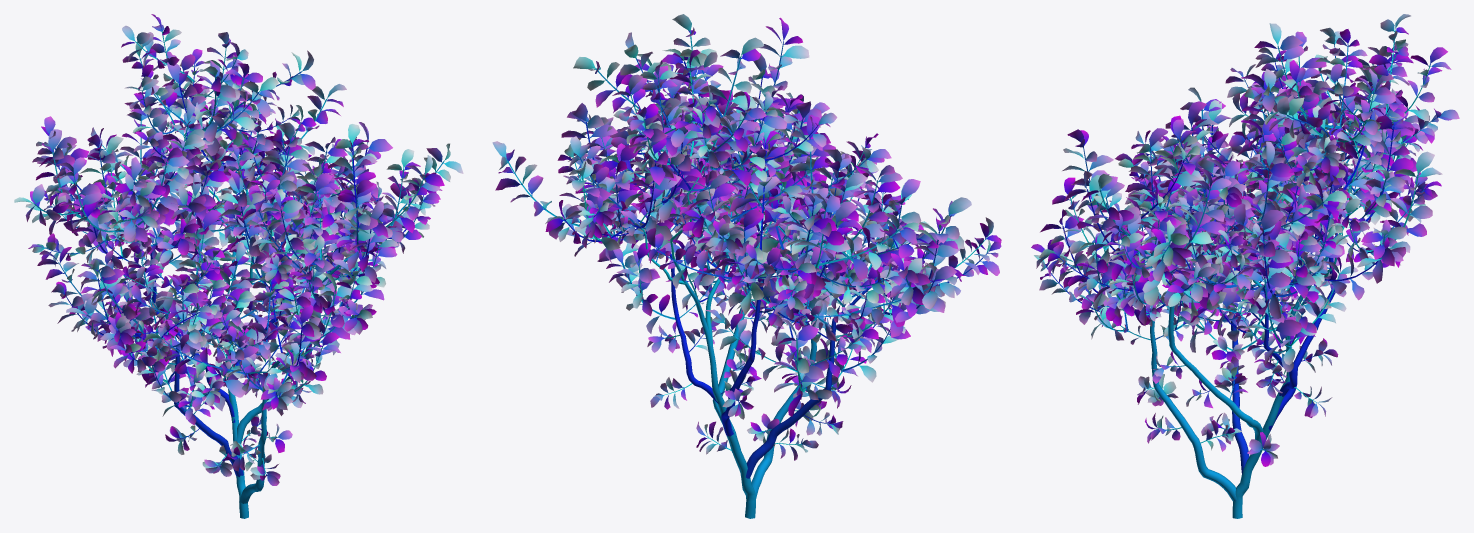
The model's file is European_Spindle_wk1ncbxja_Mid_wk1ncbxja_VarE_LOD0.fbx.
The picture shows the model from 3 angles, left to right: view 1: azimuth 30°, elevation 25°; view 2: azimuth 150°, elevation 25°; view 3: azimuth 270°, elevation 25°; orthographic projection. The views are drawn at different scales.
Visible parts, largest first — view 1: _0g3z_VarE_LOD1; view 2: _0g3z_VarE_LOD1; view 3: _0g3z_VarE_LOD1.
Boxes of the visible parts, bbox=[...] form: _0g3z_VarE_LOD1: bbox=[14, 14, 463, 518]; _0g3z_VarE_LOD1: bbox=[492, 14, 1001, 518]; _0g3z_VarE_LOD1: bbox=[1031, 14, 1459, 518].
Bounding box in the file's own units: 226 × 258 × 208.
